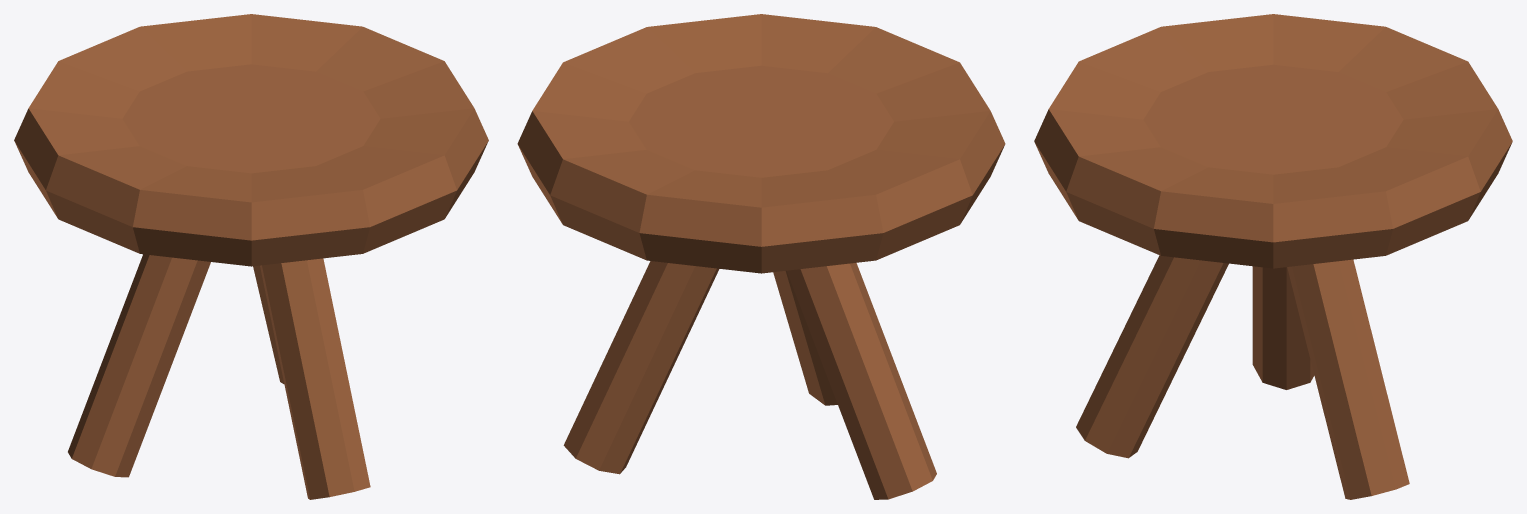
File: Chair D.glb
3 renders of one model, left to right at view 1: azimuth 30°, elevation 25°; view 2: azimuth 150°, elevation 25°; view 3: azimuth 270°, elevation 25°, orthographic. The views are drawn at different scales.
Parts seen in each view (by area): view 1: Chair D; view 2: Chair D; view 3: Chair D.
Boxes of the visible parts, x1,y1,x2,y2 form: Chair D: (14,14,488,499); Chair D: (517,14,1005,499); Chair D: (1034,14,1512,499).
Bounding box in the file's own units: 213 × 167 × 213.
